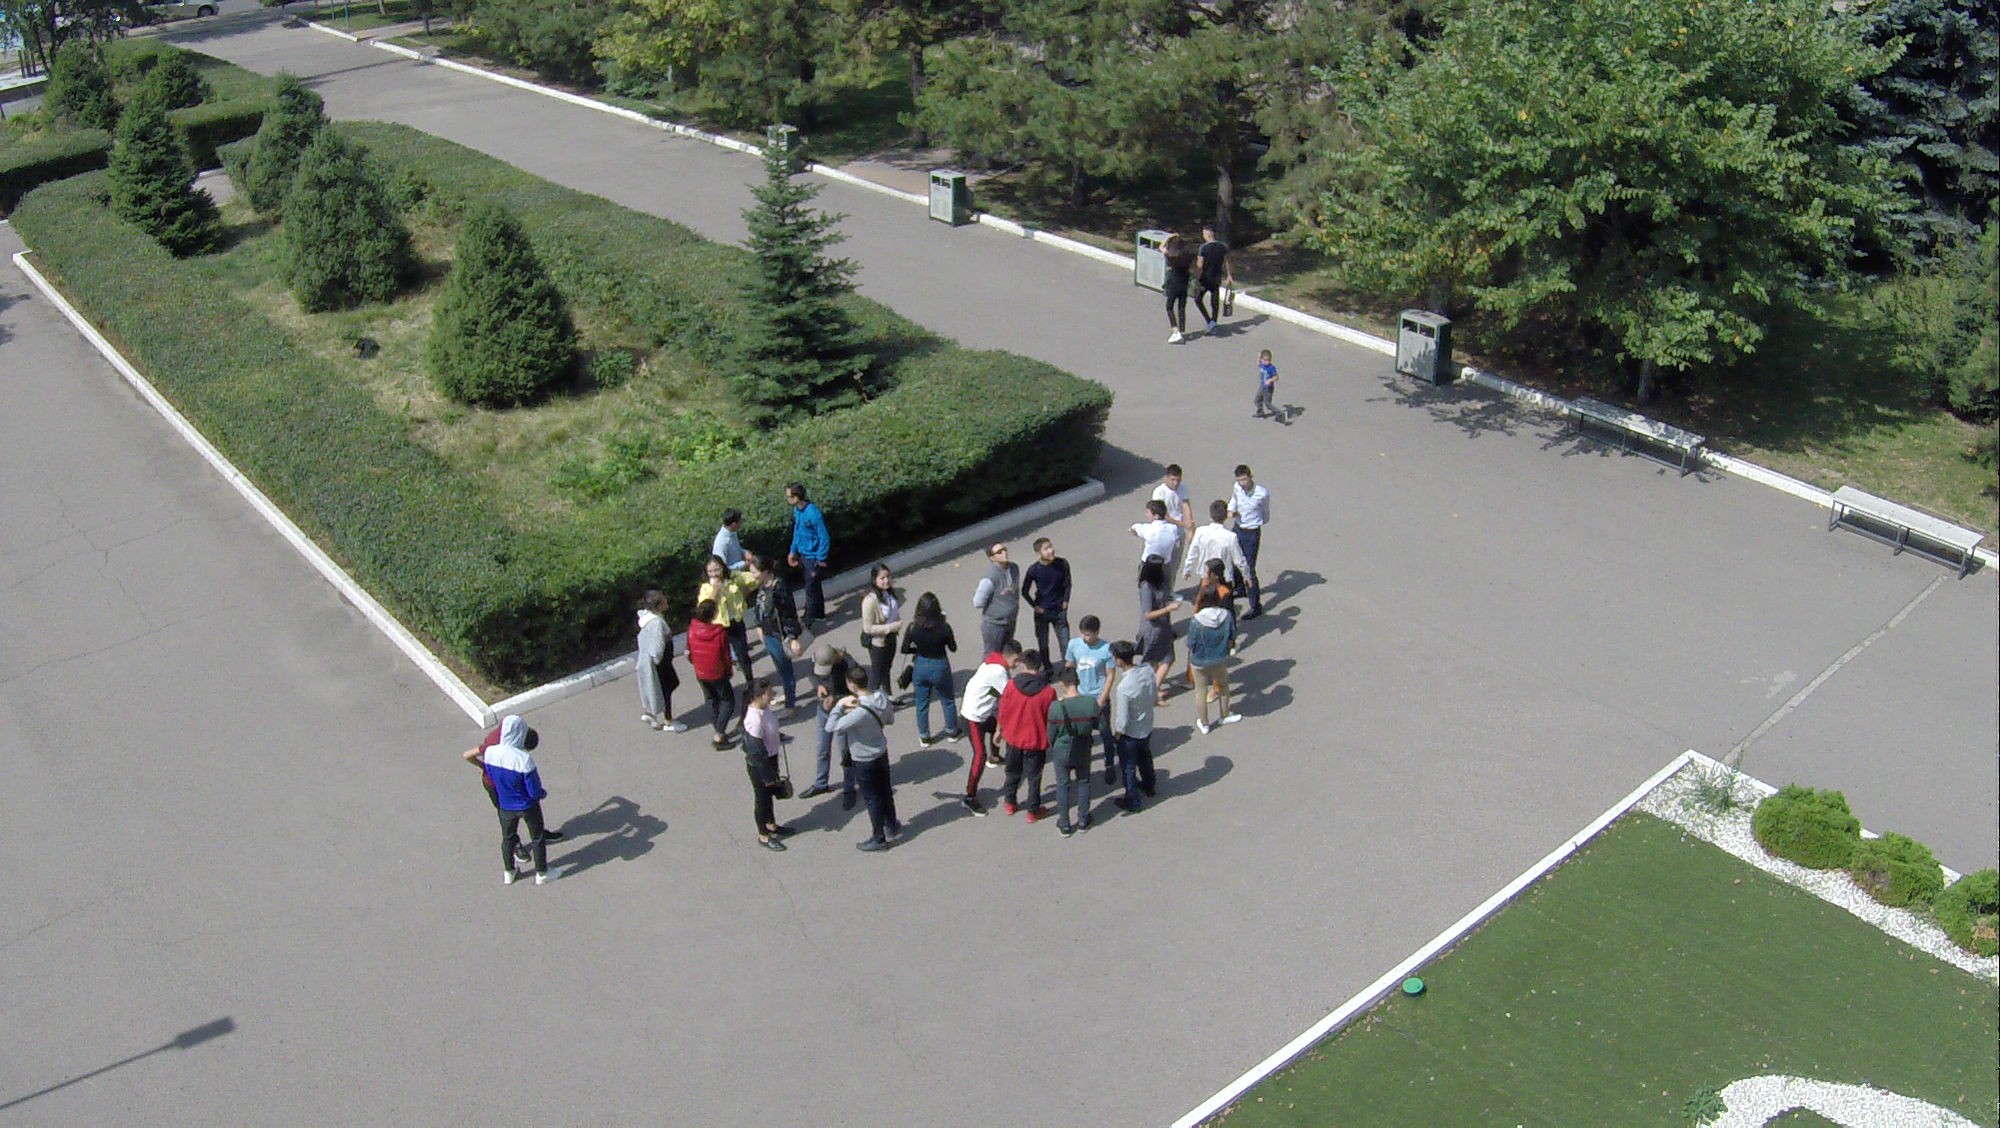person: (830, 691, 916, 862), (482, 718, 560, 895), (910, 589, 970, 751), (741, 693, 799, 858), (1105, 649, 1164, 812), (805, 641, 864, 801), (945, 649, 1005, 803), (635, 593, 685, 743), (1047, 670, 1093, 830), (1185, 599, 1245, 724), (1224, 466, 1274, 608), (1007, 660, 1049, 824), (1149, 230, 1195, 349), (1135, 499, 1195, 591), (780, 478, 826, 601), (853, 570, 899, 691), (968, 539, 1020, 639), (693, 603, 730, 743), (1203, 228, 1243, 345), (1032, 530, 1080, 626), (1191, 499, 1241, 585), (1251, 347, 1295, 439), (703, 505, 751, 576), (1147, 466, 1191, 508)
